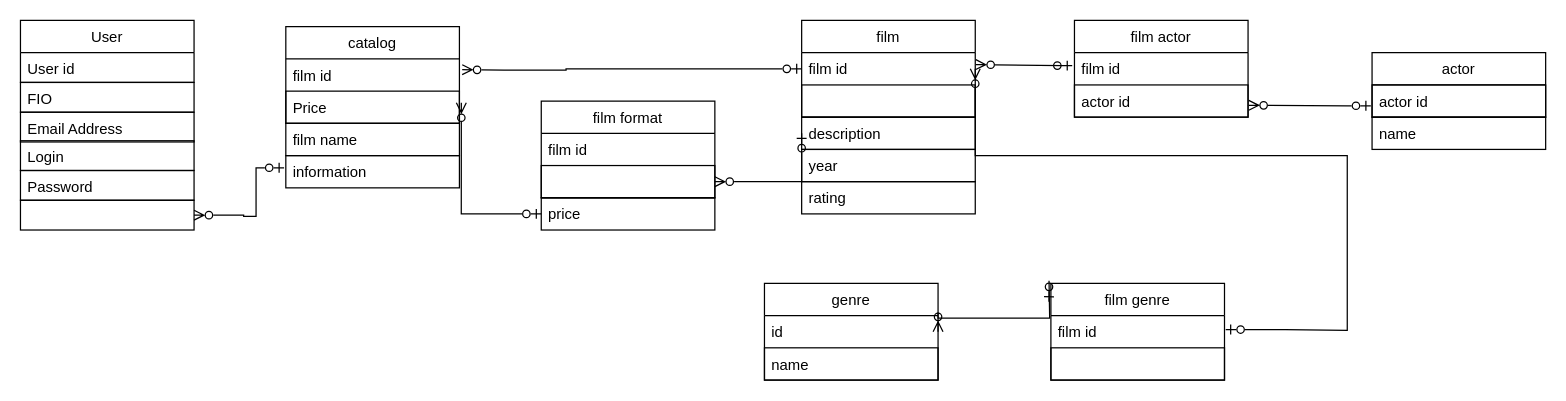
This 1566x401 diagram has some shape labels left out. The shapes that lost their labels are listed below. From the top down, each one's centre as x and y in pixels, then its label:
At [887,100]: "title".
At [627,181]: "format id".
At [106,214]: "preferences".
At [1137,363]: "genre id".
